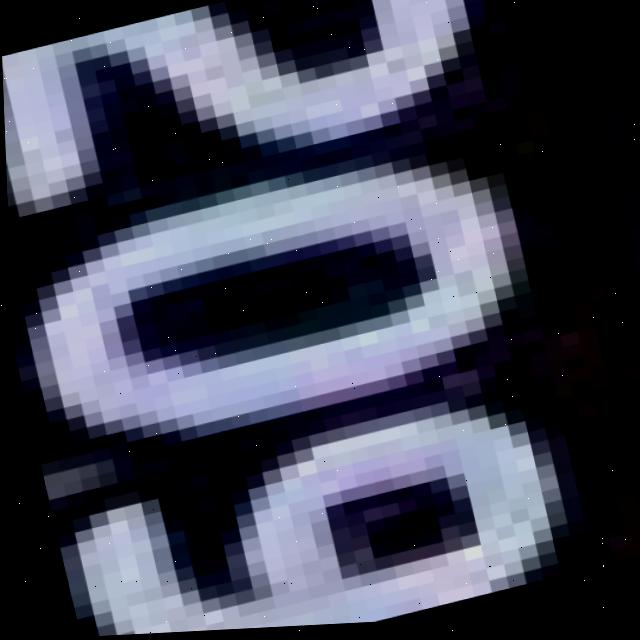character: (5, 102, 586, 489), (41, 357, 615, 639), (0, 0, 525, 220)
